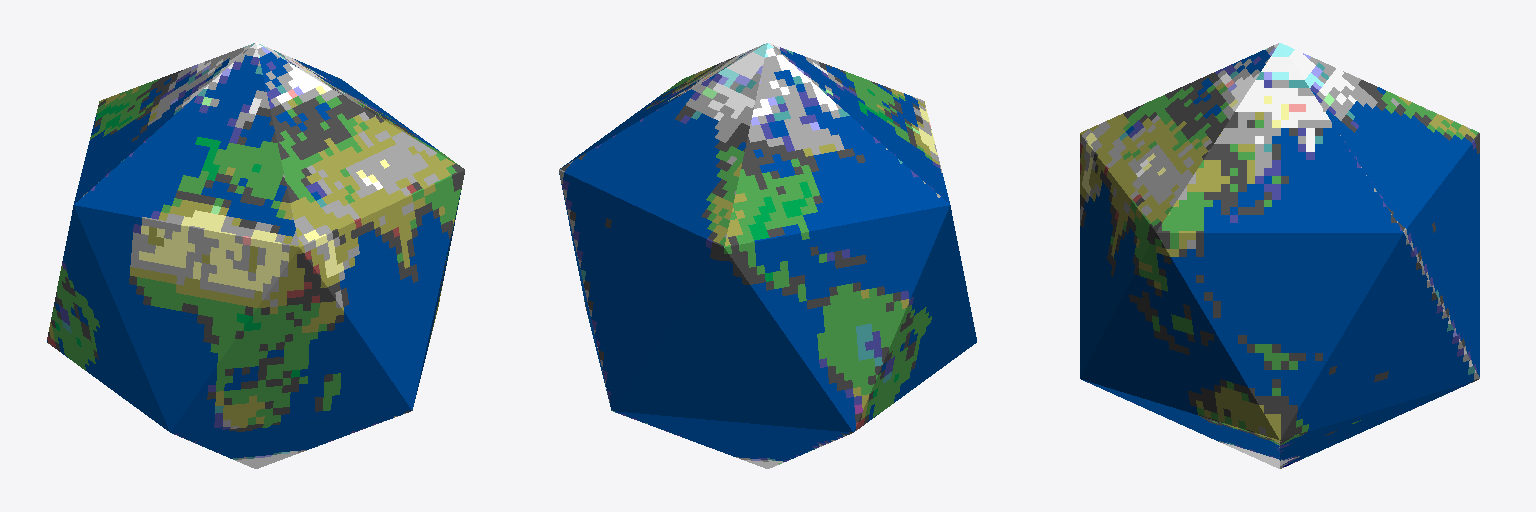
The picture shows the model from 3 angles: view 1: azimuth 30°, elevation 25°; view 2: azimuth 150°, elevation 25°; view 3: azimuth 270°, elevation 25°; orthographic projection.
Visible parts, largest first — view 1: Icosphere; view 2: Icosphere; view 3: Icosphere.
Boxes of the visible parts, x1,y1,x2,y2 form: Icosphere: [47, 43, 464, 468]; Icosphere: [559, 43, 976, 468]; Icosphere: [1080, 43, 1479, 468].
Bounding box in the file's own units: 1.79 × 2 × 1.7.
1 materials, 1 textured.